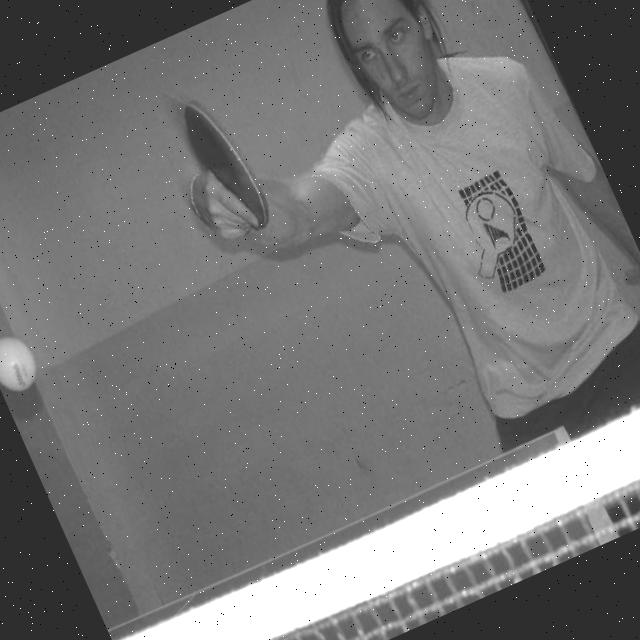ping-pong-ball: (0, 326, 46, 399)
